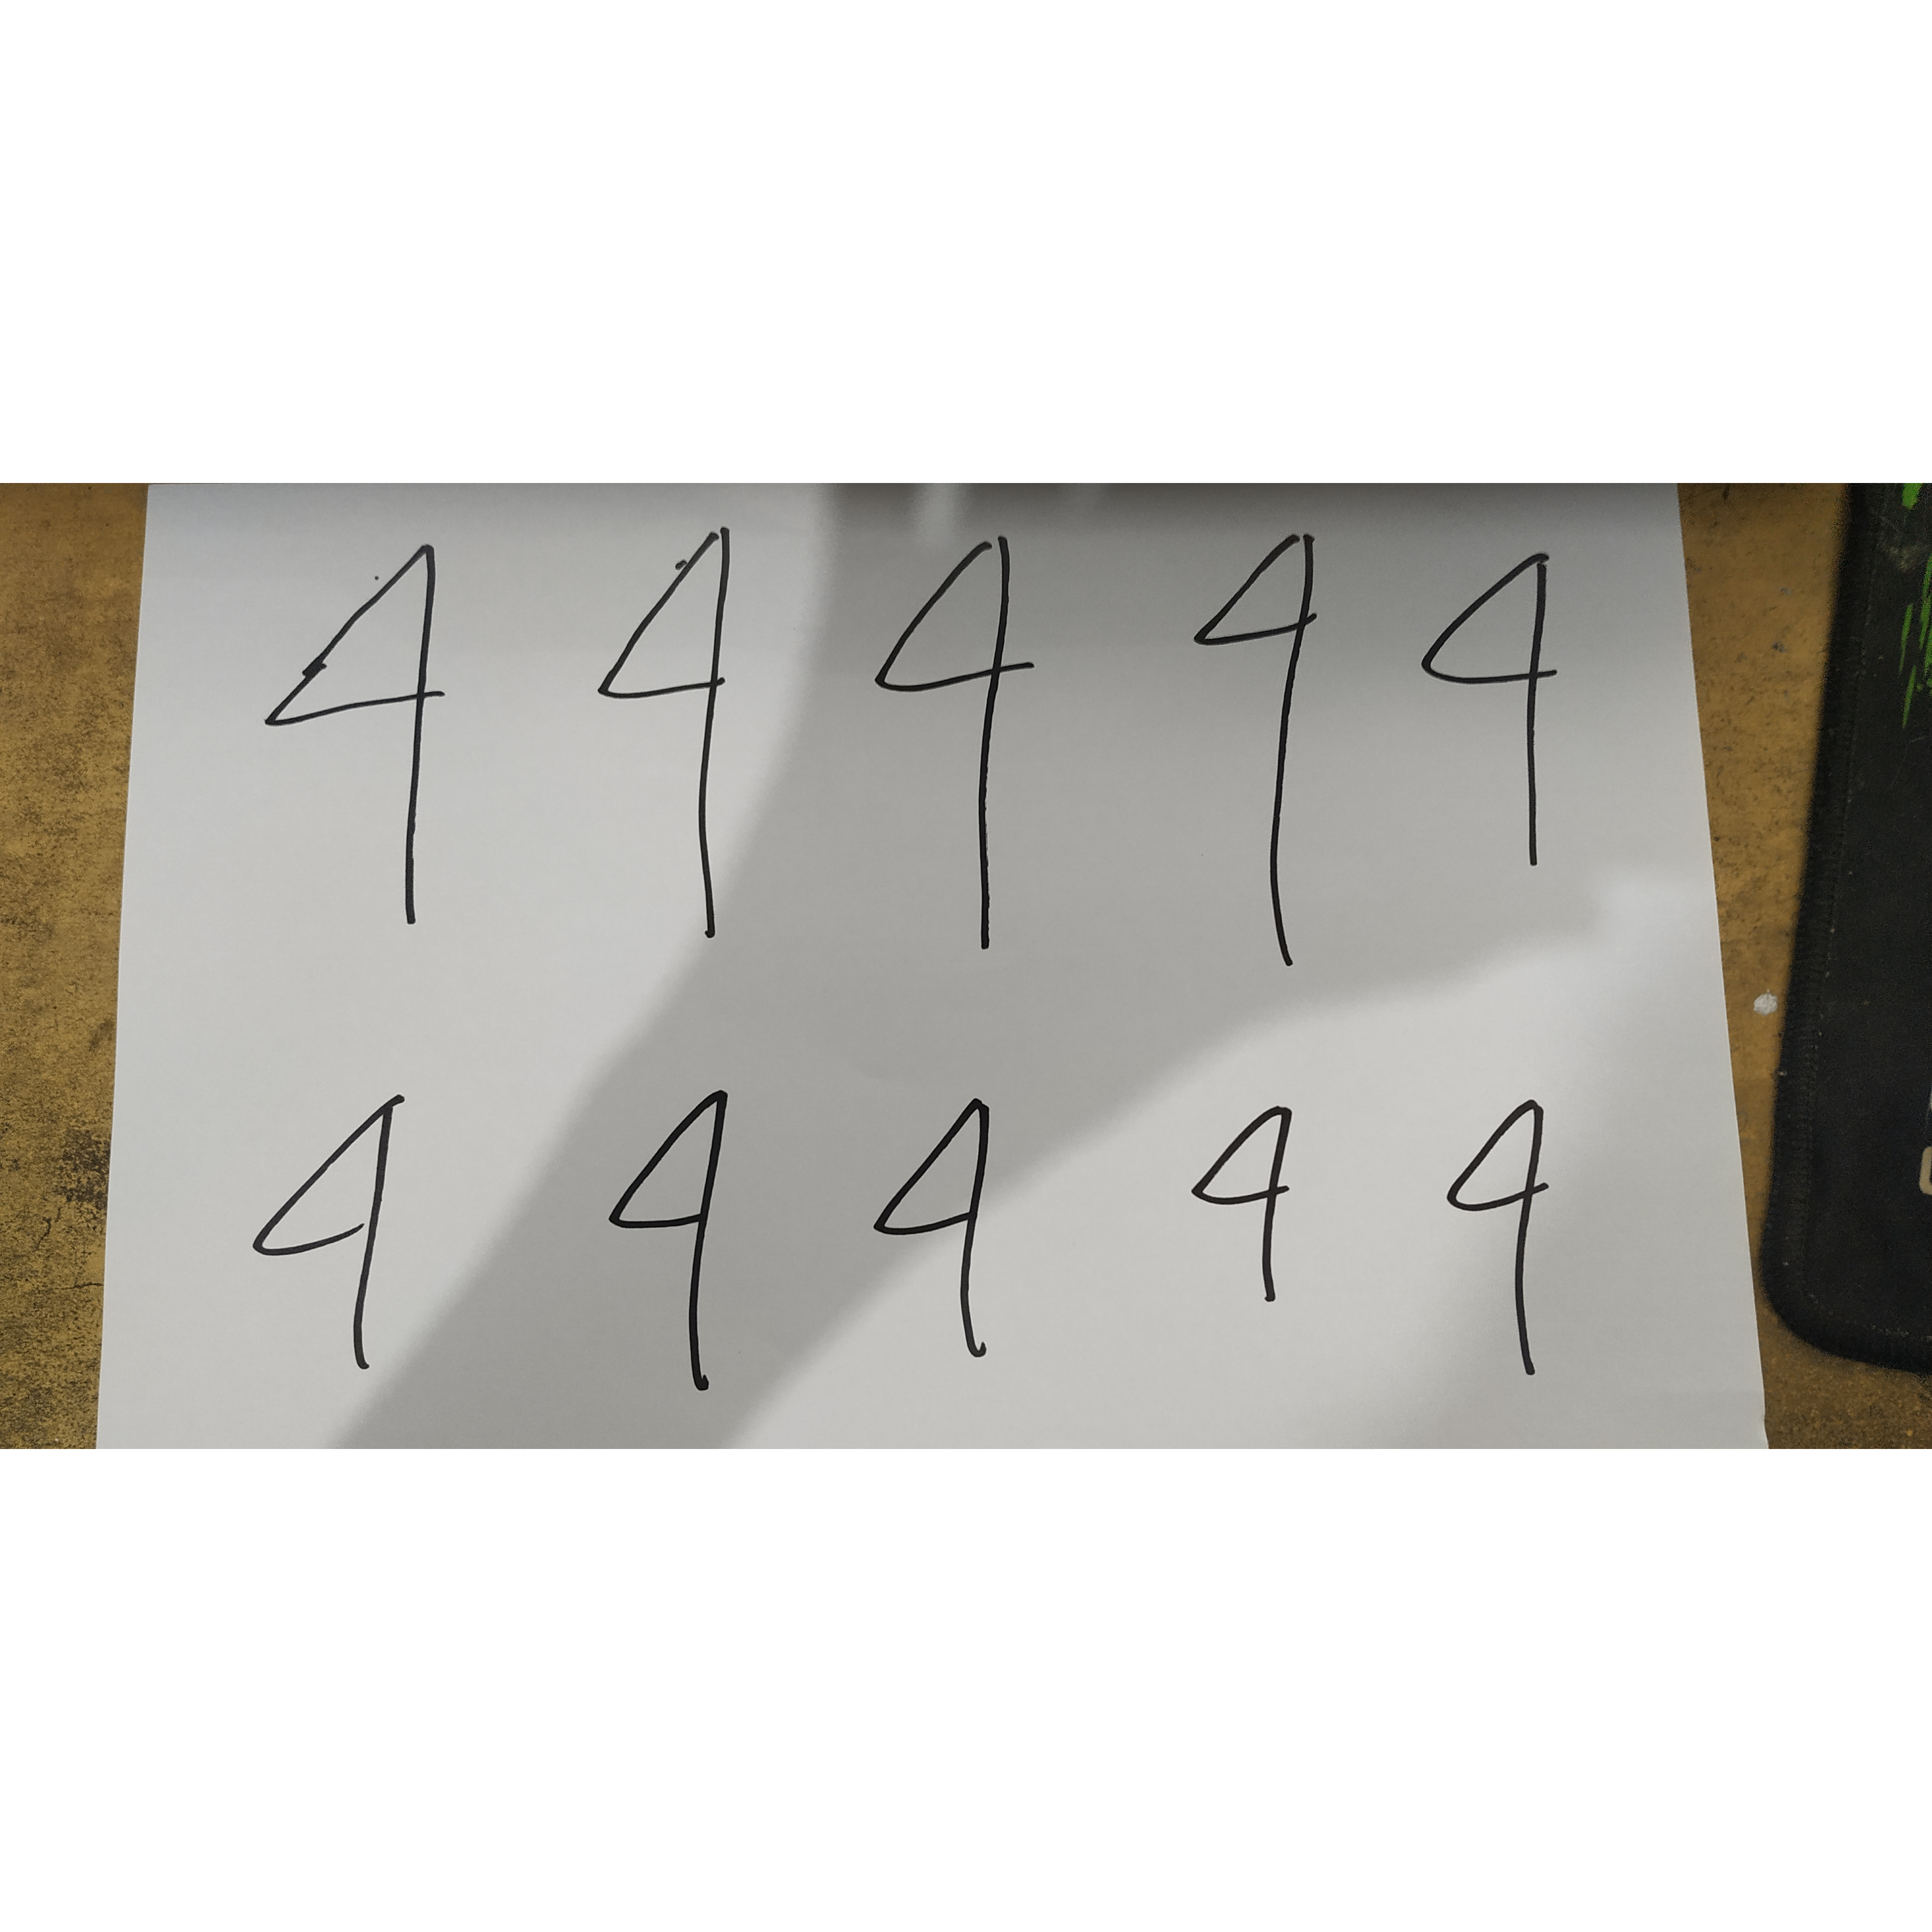num4: (226, 516, 520, 932), (860, 523, 1074, 957), (587, 508, 765, 949), (1193, 525, 1353, 985), (1402, 533, 1589, 890), (246, 1073, 431, 1386), (601, 1075, 765, 1409), (864, 1090, 1034, 1369), (1437, 1090, 1582, 1388), (1187, 1096, 1311, 1308)
